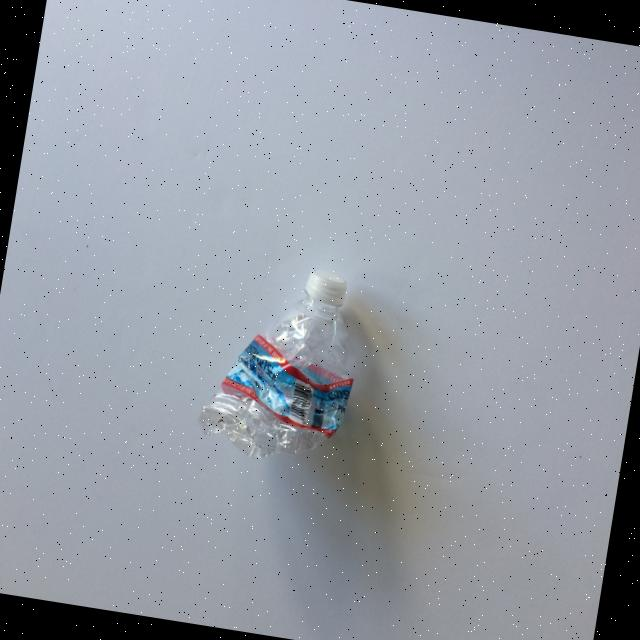plastic: (205, 268, 361, 522)
